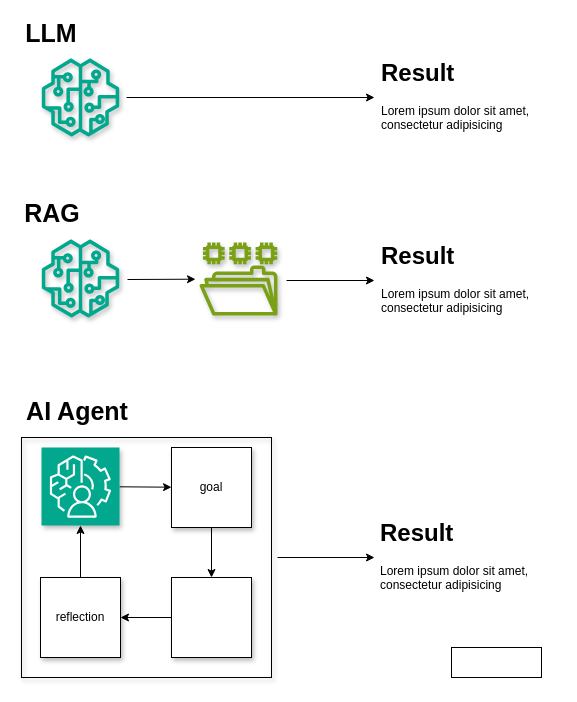
Some shapes in this 577 by 702 pixel diagram are drawn without their labels. The shapes that lost their labels are listed below. From the top down, each one's centre as x and y in pixels, then its label:
the point at 212,618: tool use
the point at 496,662: By Yash Rawal
